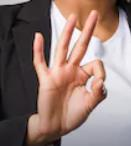left: (30, 8, 109, 138)
